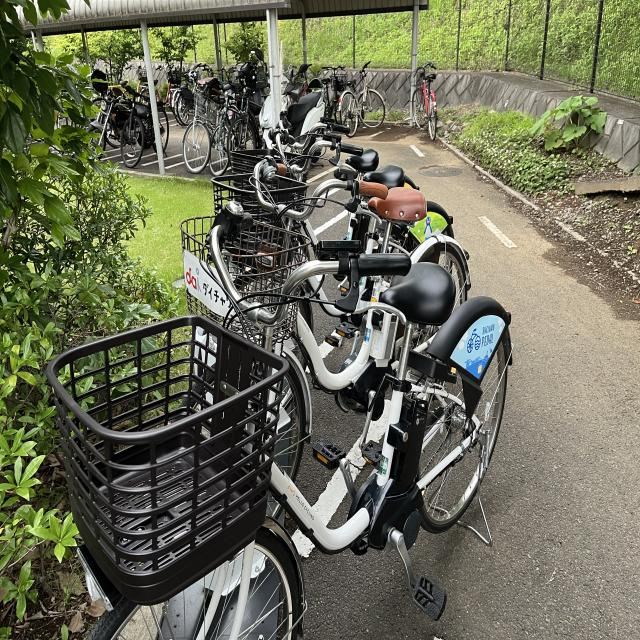basket: (43, 307, 288, 601), (177, 206, 300, 337)
battery: (400, 394, 426, 495), (371, 311, 395, 363)
